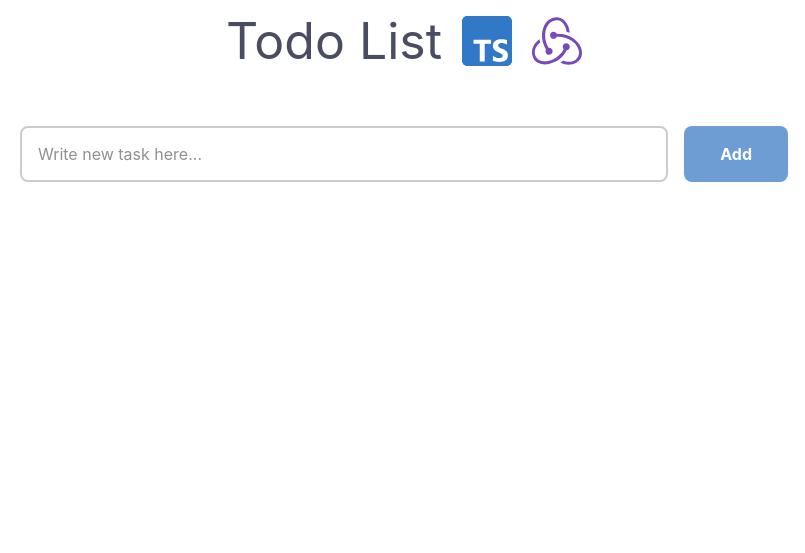
Test: My First E2E Test › "Hide completed" should hide checked todos
Check: the text "Todo number one" is not shown
Type "Todo number one" into the field with id "new-todo-input" at (344, 154), box [20, 126, 668, 182]
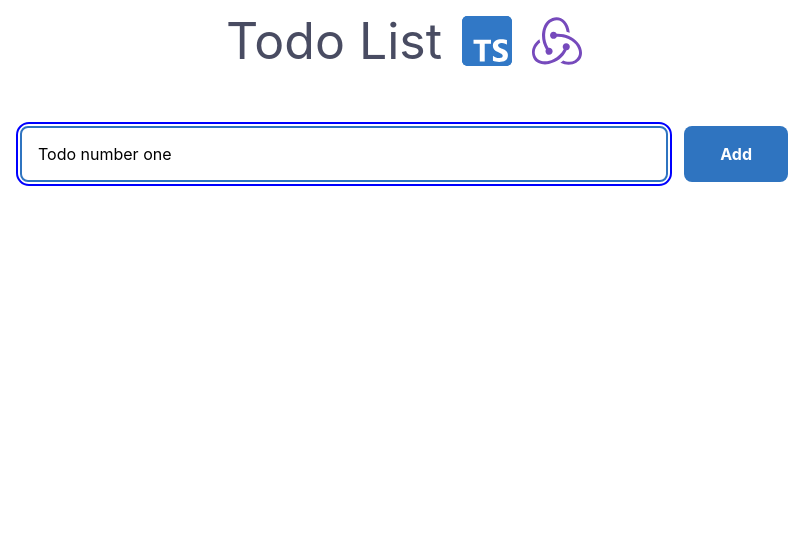
Click the button "Add" at (736, 154), box [684, 126, 788, 182]
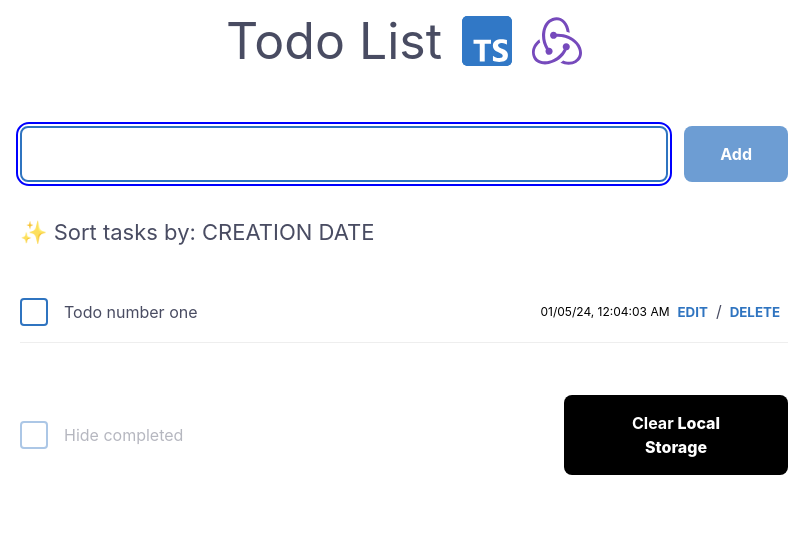
Check: the text "Todo number two" is not shown
Check: the checkbox "Todo number one" is shown, box [64, 300, 198, 324]
Type "Todo number two" into the field with id "new-todo-input" at (344, 154), box [20, 126, 668, 182]
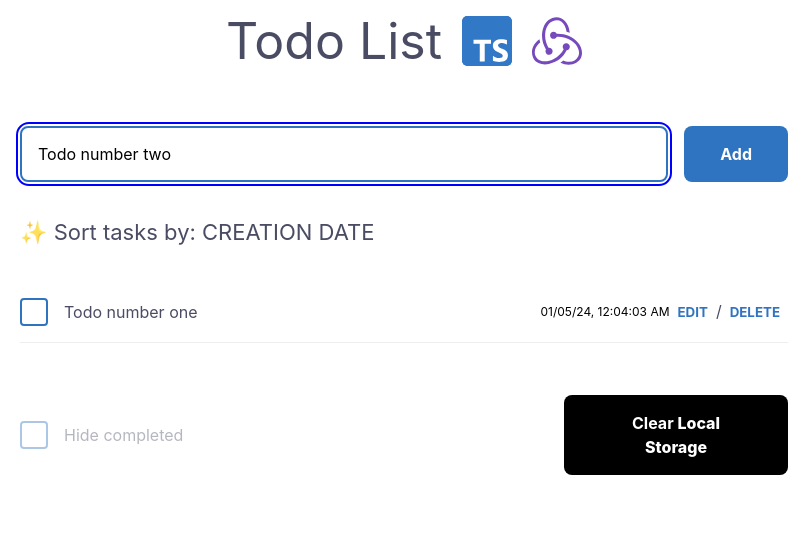
Click the button "Add" at (736, 154), box [684, 126, 788, 182]
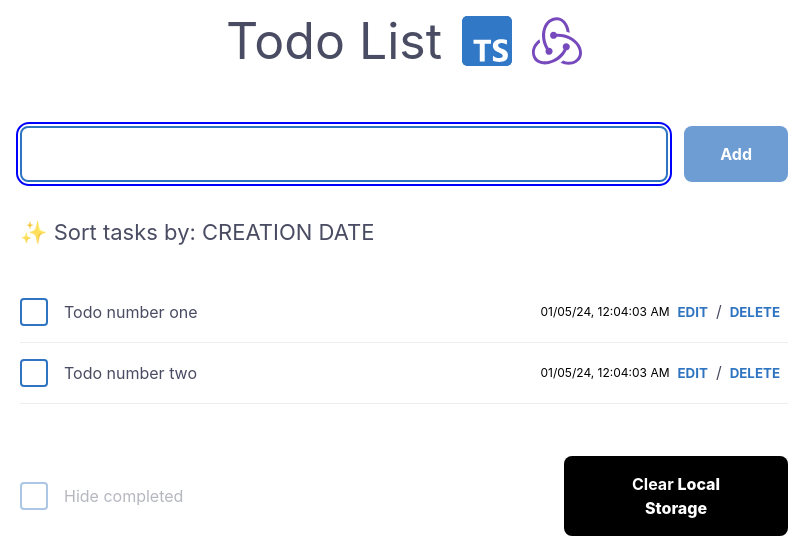
Check: the checkbox "Todo number two" is shown
Click the checkbox "Todo number two" at (131, 373), box [64, 361, 197, 385]
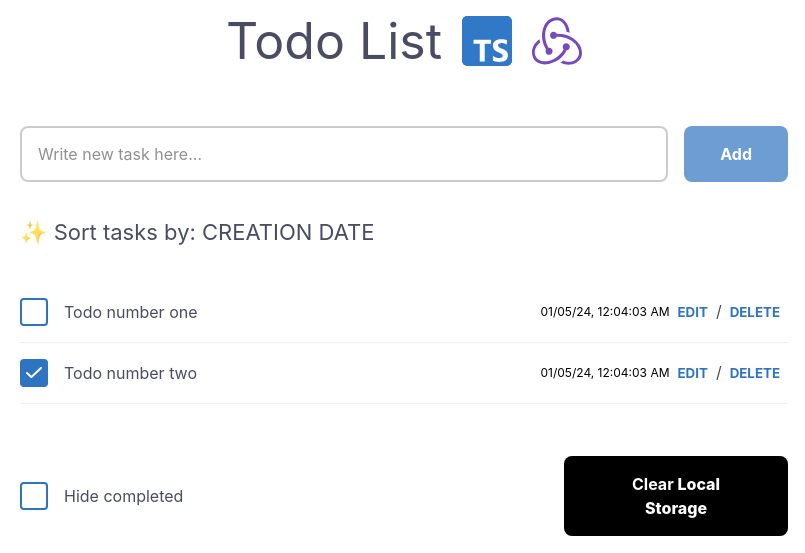
Click the checkbox "Hide completed" at (124, 496), box [64, 484, 183, 508]
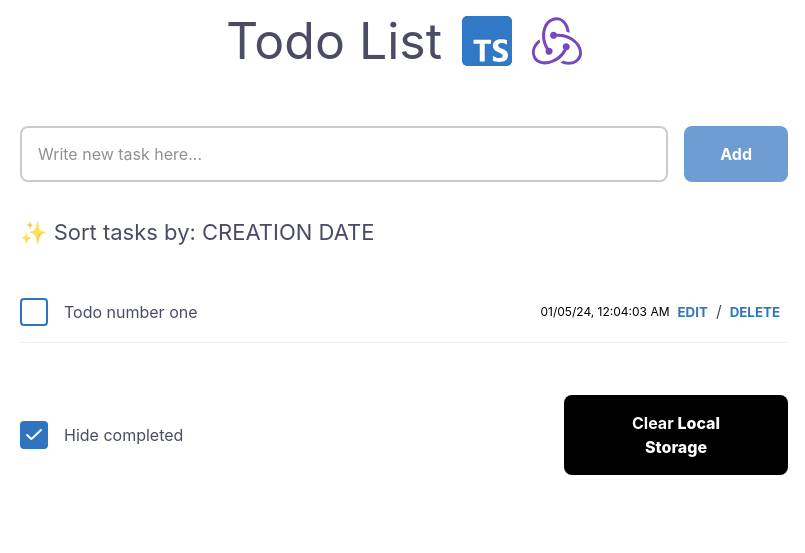
Check: the checkbox "Todo number one" is shown, box [64, 300, 198, 324]
Check: the checkbox "Todo number two" is gone
